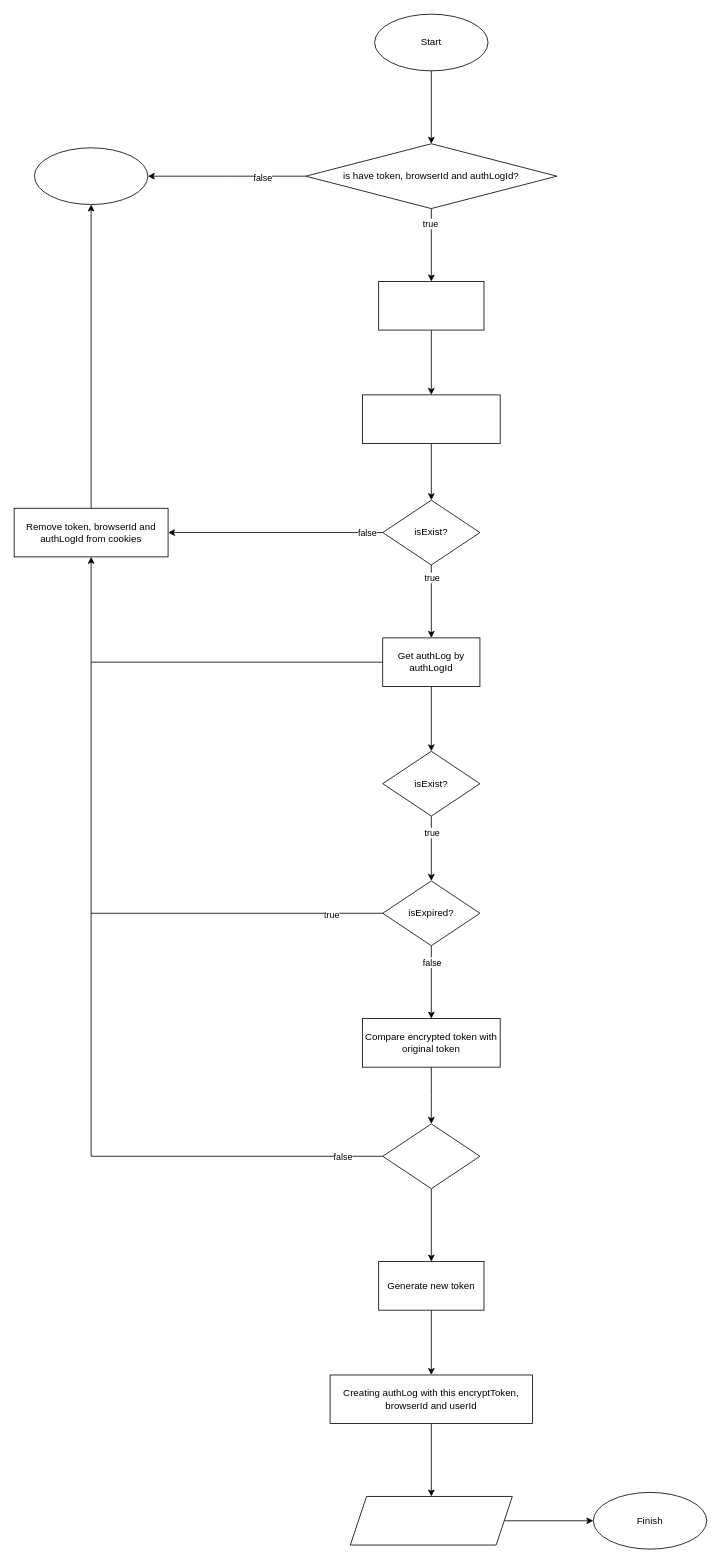
Some shapes in this 721 by 1563 pixel diagram are drawn without their labels. The shapes that lost their labels are listed below. From the top down, each one's box as (x1, y1, x2, y2) in pixels, then its label:
(34, 147, 148, 205): End
(378, 281, 484, 330): Get userId from token
(362, 394, 500, 443): Get UserOnBrowsers by UserId and BrowserId
(382, 1123, 480, 1189): isCorrect?
(350, 1496, 512, 1545): Send res { token, browserId, authLogId }
